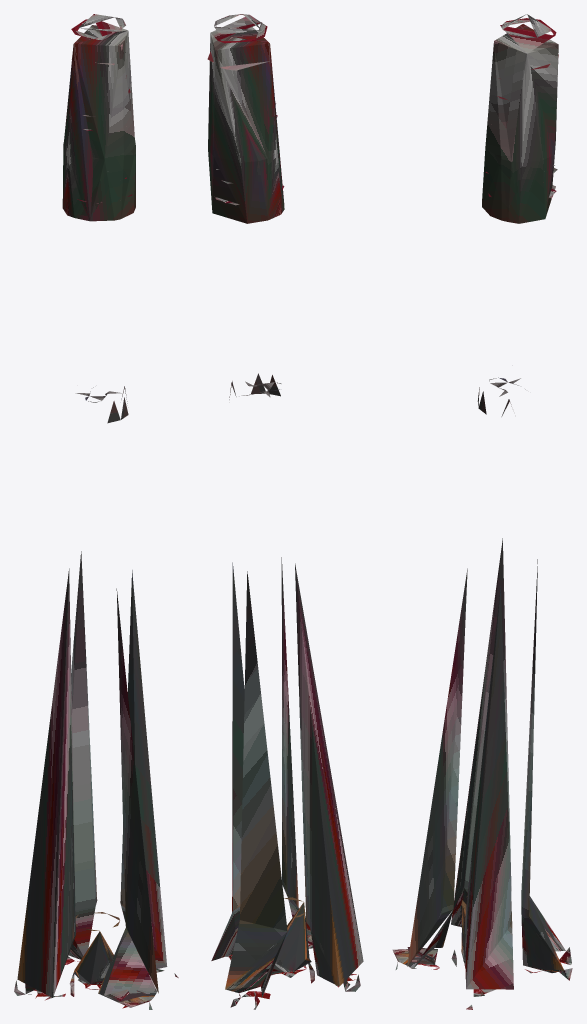
The picture shows the model from 3 angles, left to right: view 1: azimuth 30°, elevation 25°; view 2: azimuth 150°, elevation 25°; view 3: azimuth 270°, elevation 25°; orthographic projection.
Parts seen in each view (by area): view 1: mesh0.dat.desirefx.me_.obj_1_Default _0; view 2: mesh0.dat.desirefx.me_.obj_1_Default _0; view 3: mesh0.dat.desirefx.me_.obj_1_Default _0.
Part boxes in pixels (left/top/right/bottom): mesh0.dat.desirefx.me_.obj_1_Default _0: left=14, top=14, right=178, bottom=1009; mesh0.dat.desirefx.me_.obj_1_Default _0: left=207, top=14, right=363, bottom=1009; mesh0.dat.desirefx.me_.obj_1_Default _0: left=392, top=14, right=572, bottom=1009.
Size of the model in its own units: 0.0016 by 0.00953 by 0.00162.
Materials: 1 (1 with a texture image).
